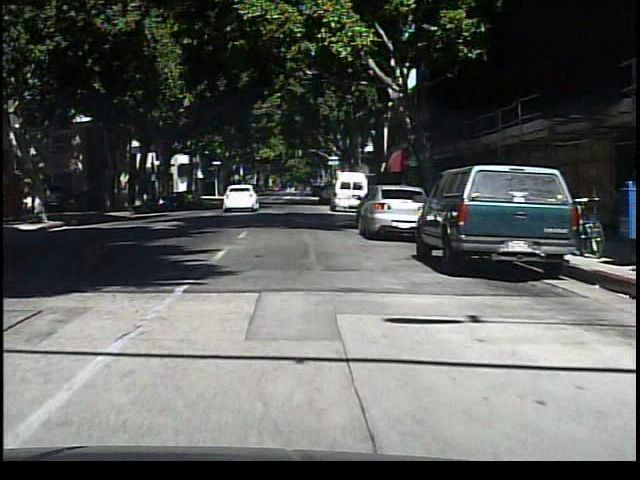person: (39, 180, 57, 223), (293, 177, 311, 206)
